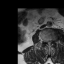CCS_normal: (48, 38, 50, 47)
LFS_severe_stenosis: (52, 38, 54, 43)
LLS_severe_stenosis: (50, 39, 52, 45)
RFS_stenosis: (44, 38, 46, 43)
RLS_normal: (46, 39, 48, 45)
